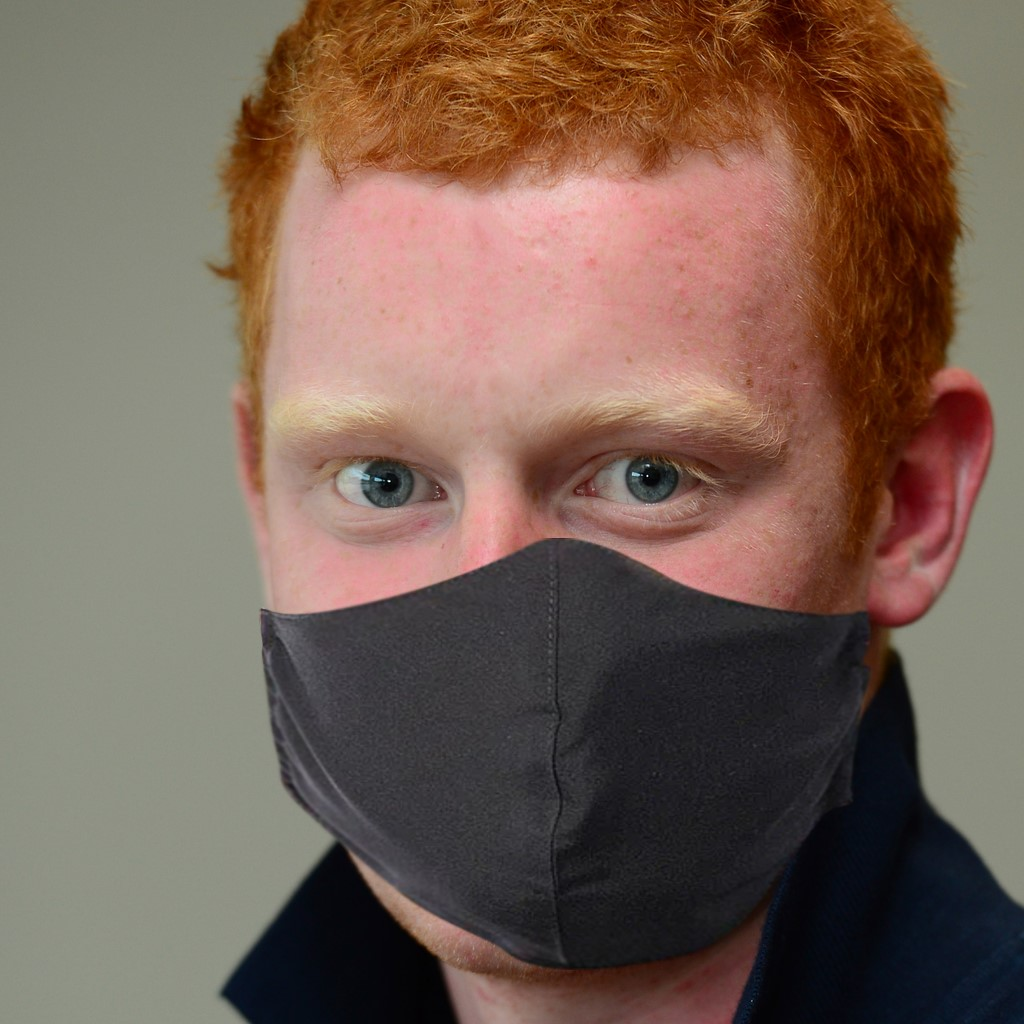con_mascara: (197, 22, 946, 968)
